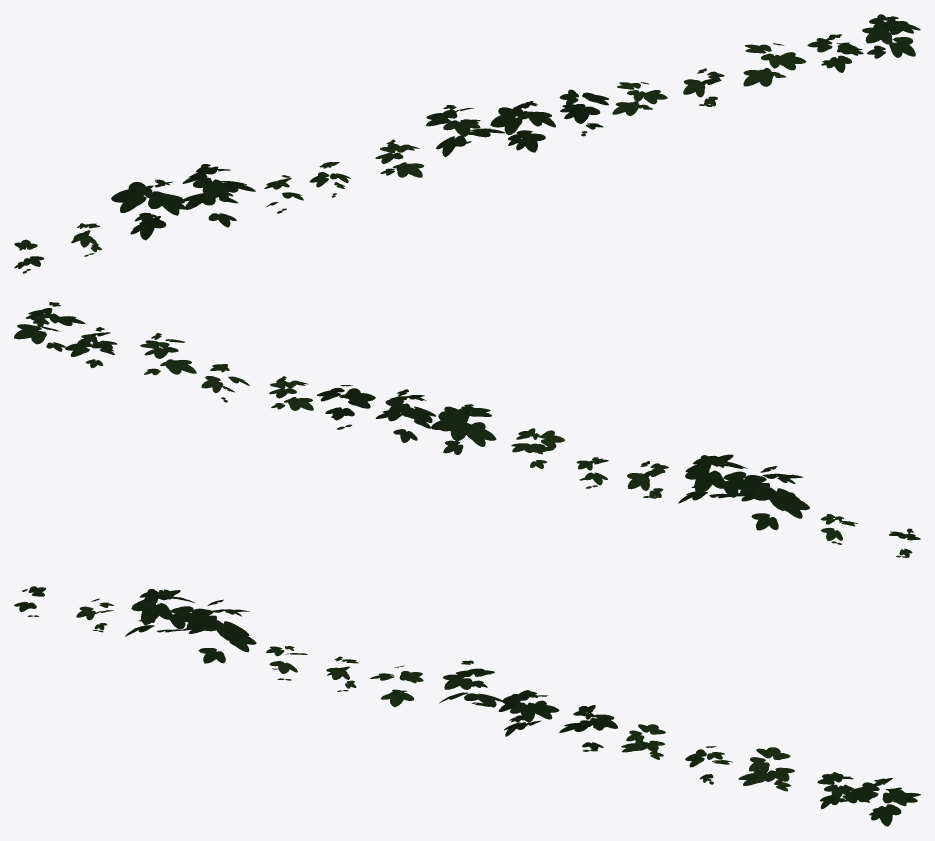
File: ROW_12_SEG2_foliage.dae
The picture shows the model from 3 angles, top to bottom: view 1: azimuth 30°, elevation 25°; view 2: azimuth 150°, elevation 25°; view 3: azimuth 330°, elevation 25°; orthographic projection.
Visible parts, largest first — view 1: ROW_12_SEG2_foliage; view 2: ROW_12_SEG2_foliage; view 3: ROW_12_SEG2_foliage.
Boxes of the visible parts, box(x1,y1,x2,y2) form: ROW_12_SEG2_foliage: box(14, 14, 920, 273); ROW_12_SEG2_foliage: box(14, 302, 920, 557); ROW_12_SEG2_foliage: box(14, 586, 920, 826).
Size of the model in its own units: 4.44 by 0.3813 by 0.294.
